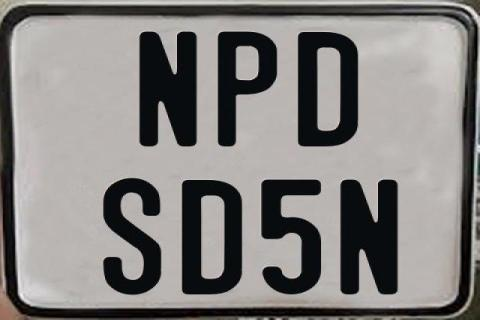0: (258, 178, 321, 298)
D: (182, 180, 244, 296), (297, 30, 357, 148)
N: (138, 32, 198, 150), (339, 178, 397, 294)
P: (217, 29, 276, 147)
S: (103, 177, 165, 296)
